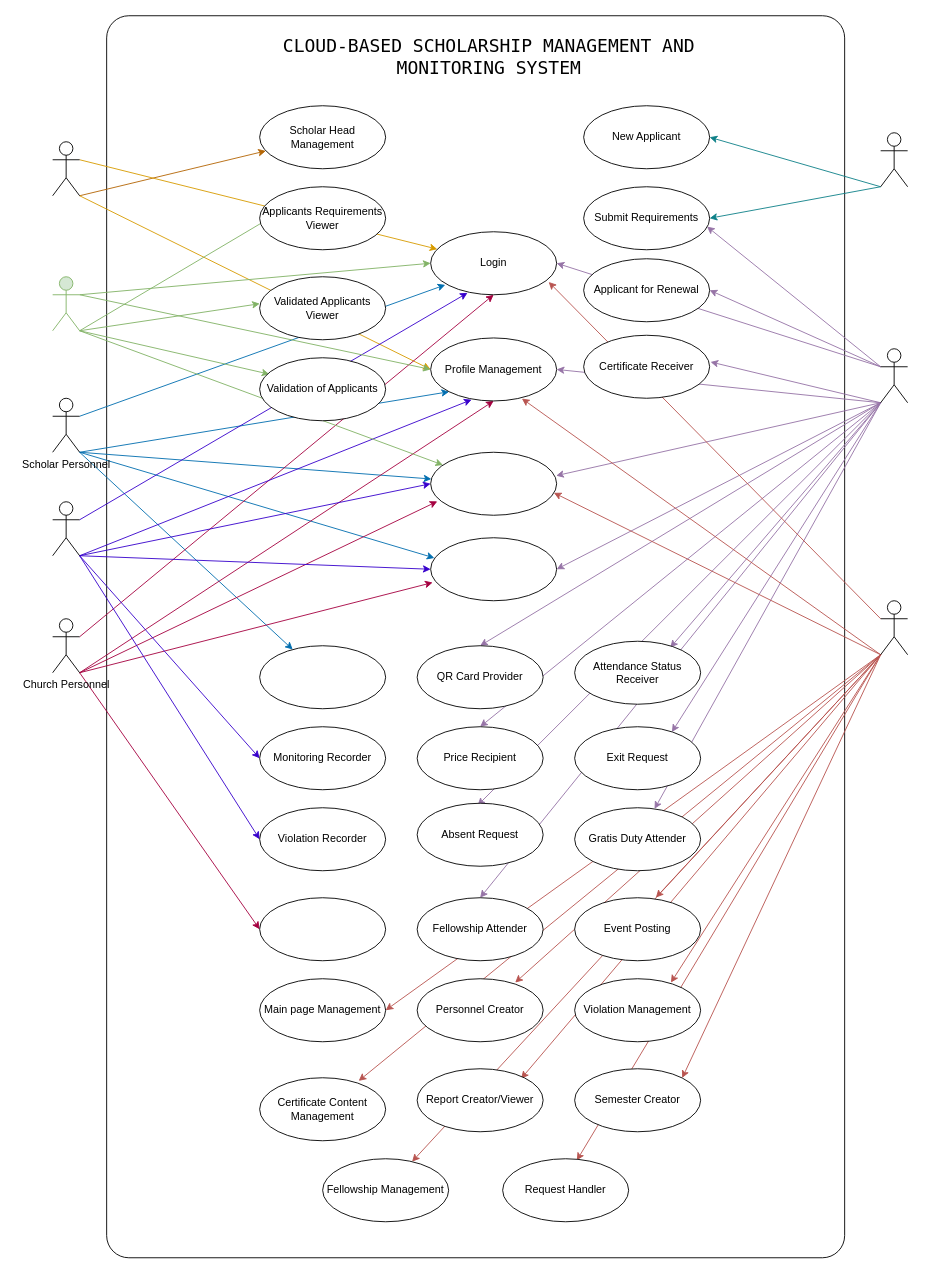
The diagram is 942 pixels wide and 1274 high, and some of its shapes have lost their labels. Each missing label, with the box of its shape:
Account Credentials Receiver: (430, 451, 557, 515)
Applicant: (880, 132, 908, 187)
Attendance Record Viewer: (430, 537, 557, 601)
Fellowship Recorder: (259, 897, 386, 961)
Gratis Duty Recorder: (259, 645, 386, 709)
Monitoring Personnel: (52, 501, 80, 556)
Scholar: (880, 348, 908, 403)
Scholar Head: (880, 600, 908, 655)
School Head: (52, 141, 80, 196)
Validator: (52, 276, 80, 331)
